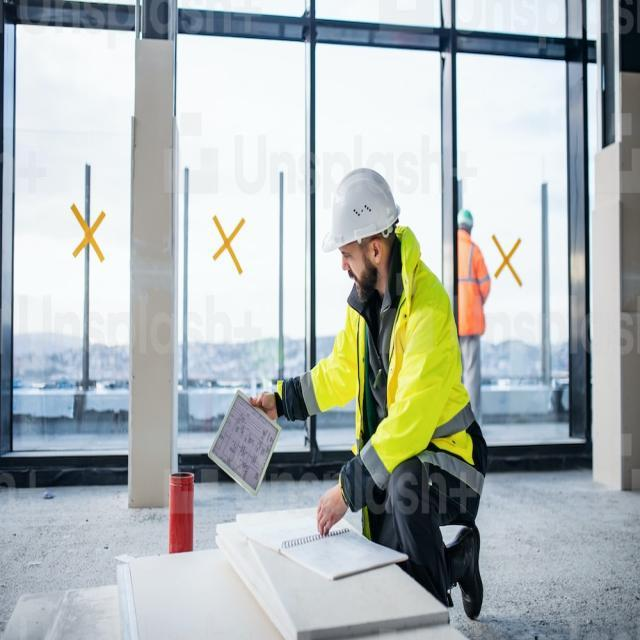helmet: (316, 163, 410, 276)
